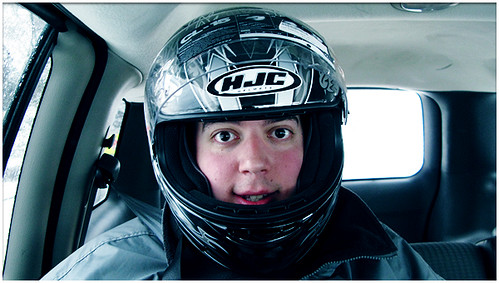helmet: (131, 8, 362, 116)
